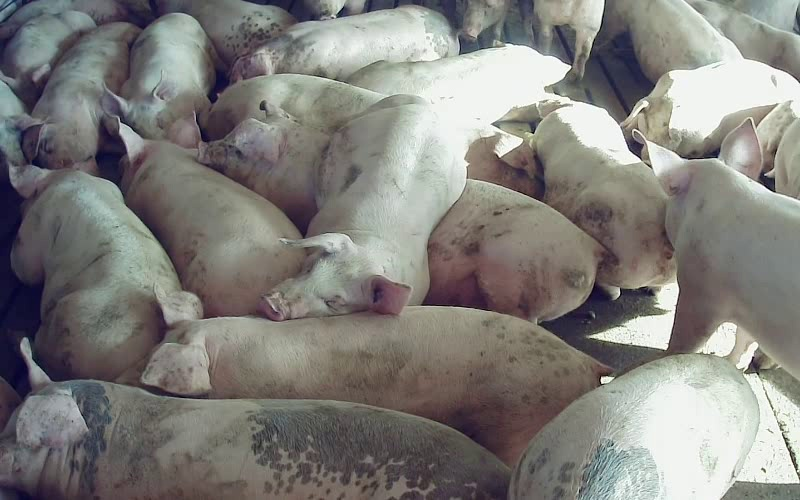pig: (261, 95, 465, 319), (635, 120, 799, 379), (10, 158, 180, 380), (119, 114, 303, 316), (509, 354, 758, 499), (531, 97, 675, 298), (621, 59, 799, 158), (230, 5, 458, 82), (198, 101, 329, 232), (23, 22, 140, 168), (348, 45, 569, 122), (104, 13, 215, 138), (597, 0, 742, 82), (206, 74, 383, 139), (0, 11, 95, 109)
